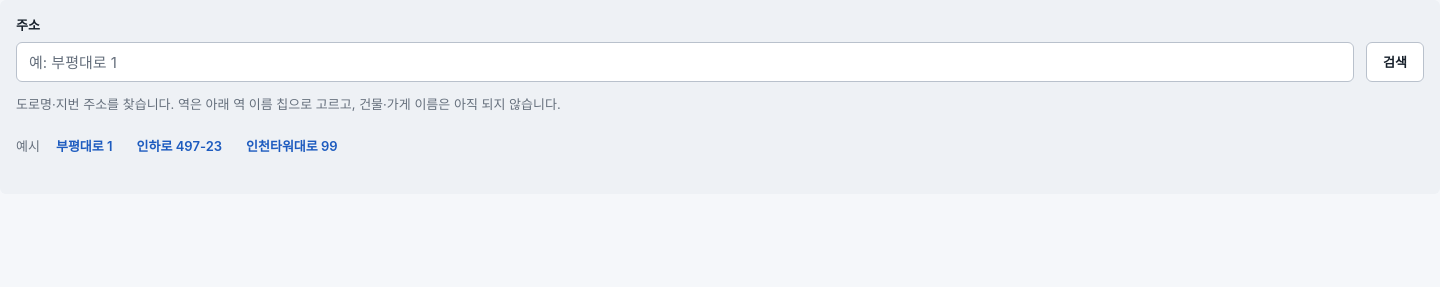
Test case: AddressSearch — embedded (위치 입력 방법 segmented, P2·P3) › 펼침 버튼 없이 폼이 열려 있고, 결과를 고르면 목록만 닫히고 폼·입력값은 남는다
In the field labelled "주소": (685, 62) [16, 42, 1354, 82], type "부평대로 3"
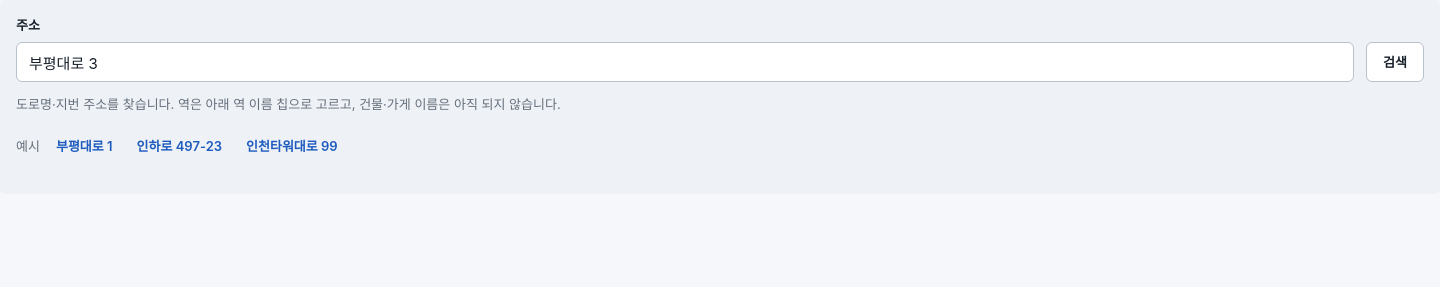
Submit the form "주소 검색", box [16, 16, 1424, 82]
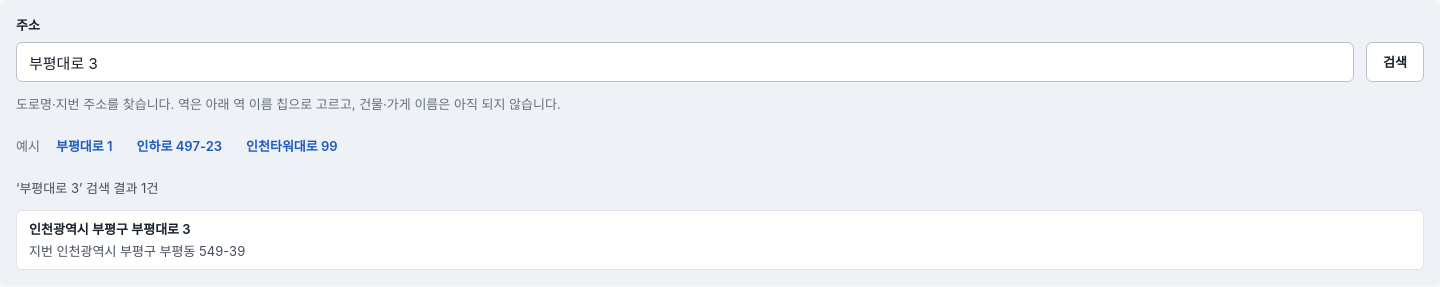
Click the button "인천광역시 부평구 부평대로 3 지번 인천광역시 부평구 부평동 549-39": (110, 229) [17, 211, 1423, 269]
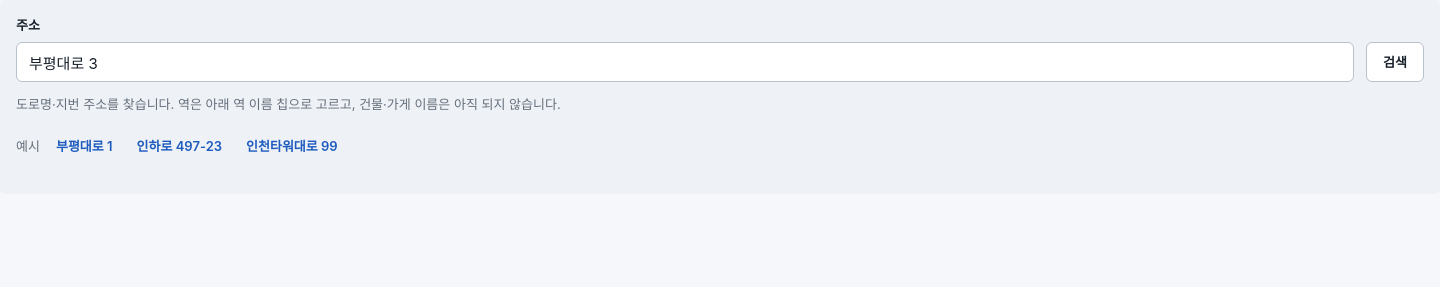
expect the text "검색 결과" is gone: met
